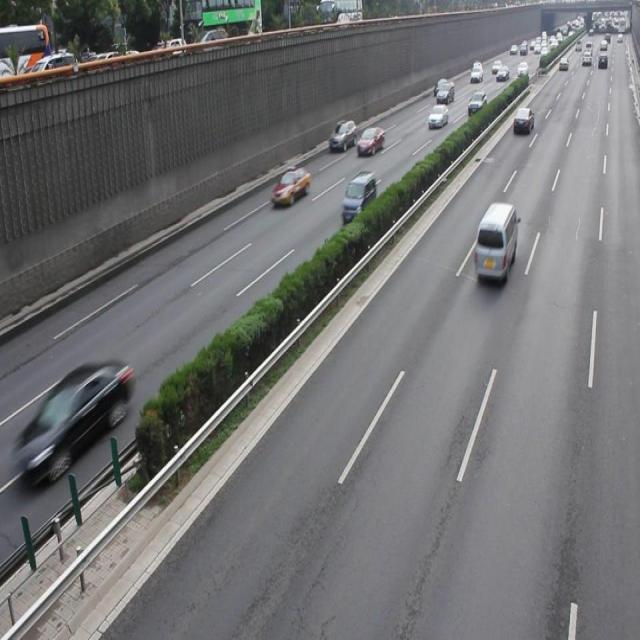car: (30, 358, 128, 478), (272, 165, 310, 205)
truck: (472, 202, 516, 279), (340, 171, 376, 222)
